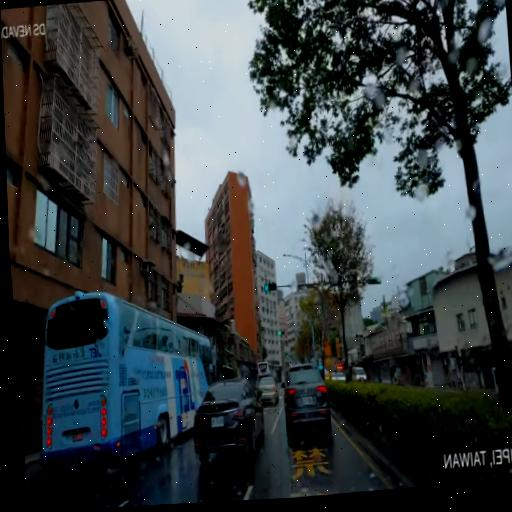Car: (21, 272, 225, 473), (190, 370, 264, 469), (282, 361, 332, 441), (255, 372, 279, 409), (256, 358, 279, 387), (351, 360, 369, 391)
